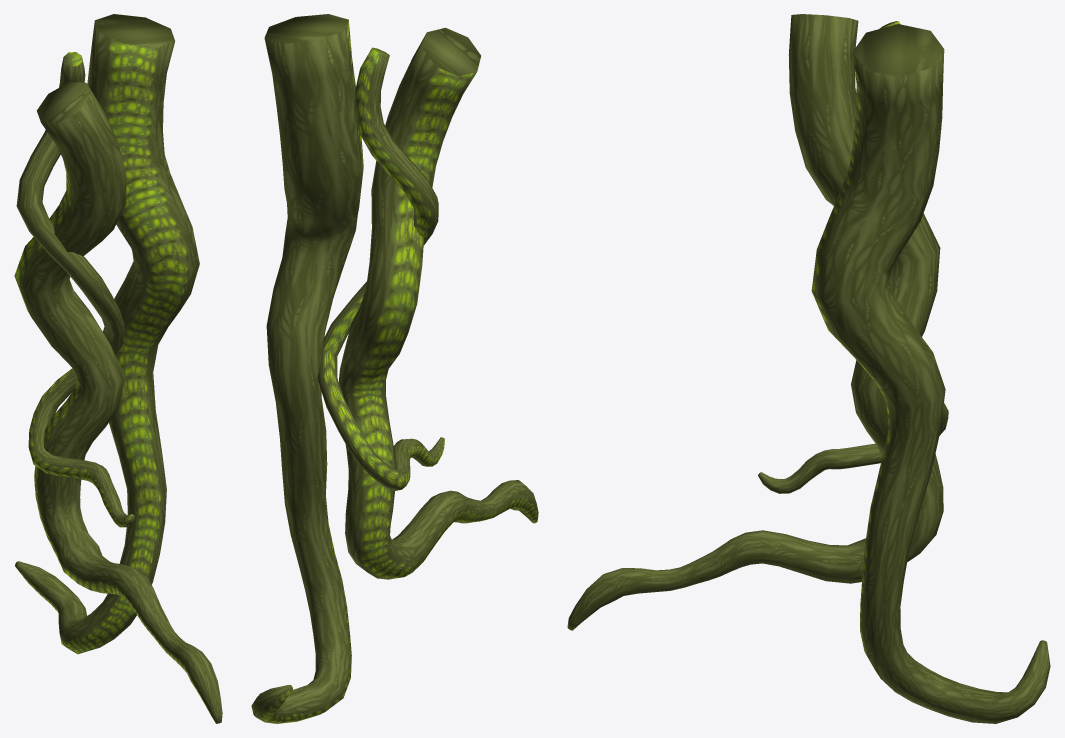
Rendered from tt_forest_root07.FBX.
The picture shows the model from 3 angles, left to right: view 1: azimuth 30°, elevation 25°; view 2: azimuth 150°, elevation 25°; view 3: azimuth 270°, elevation 25°; orthographic projection. The views are drawn at different scales.
Visible parts, largest first — view 1: tt_forest_root07; view 2: tt_forest_root07; view 3: tt_forest_root07.
Part boxes in pixels (box(x1,y1,x2,y2)): tt_forest_root07: box(14, 14, 222, 723); tt_forest_root07: box(251, 14, 538, 723); tt_forest_root07: box(567, 14, 1050, 723).
Size of the model in its own units: 462 by 1678 by 1063.
